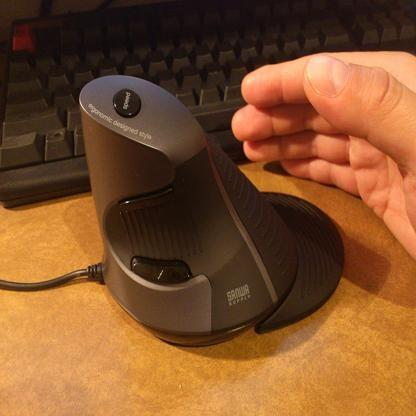not trash: (75, 73, 345, 349)
